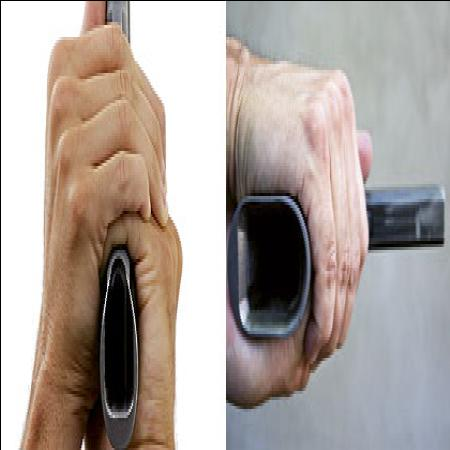Pistol: (230, 171, 446, 345)
